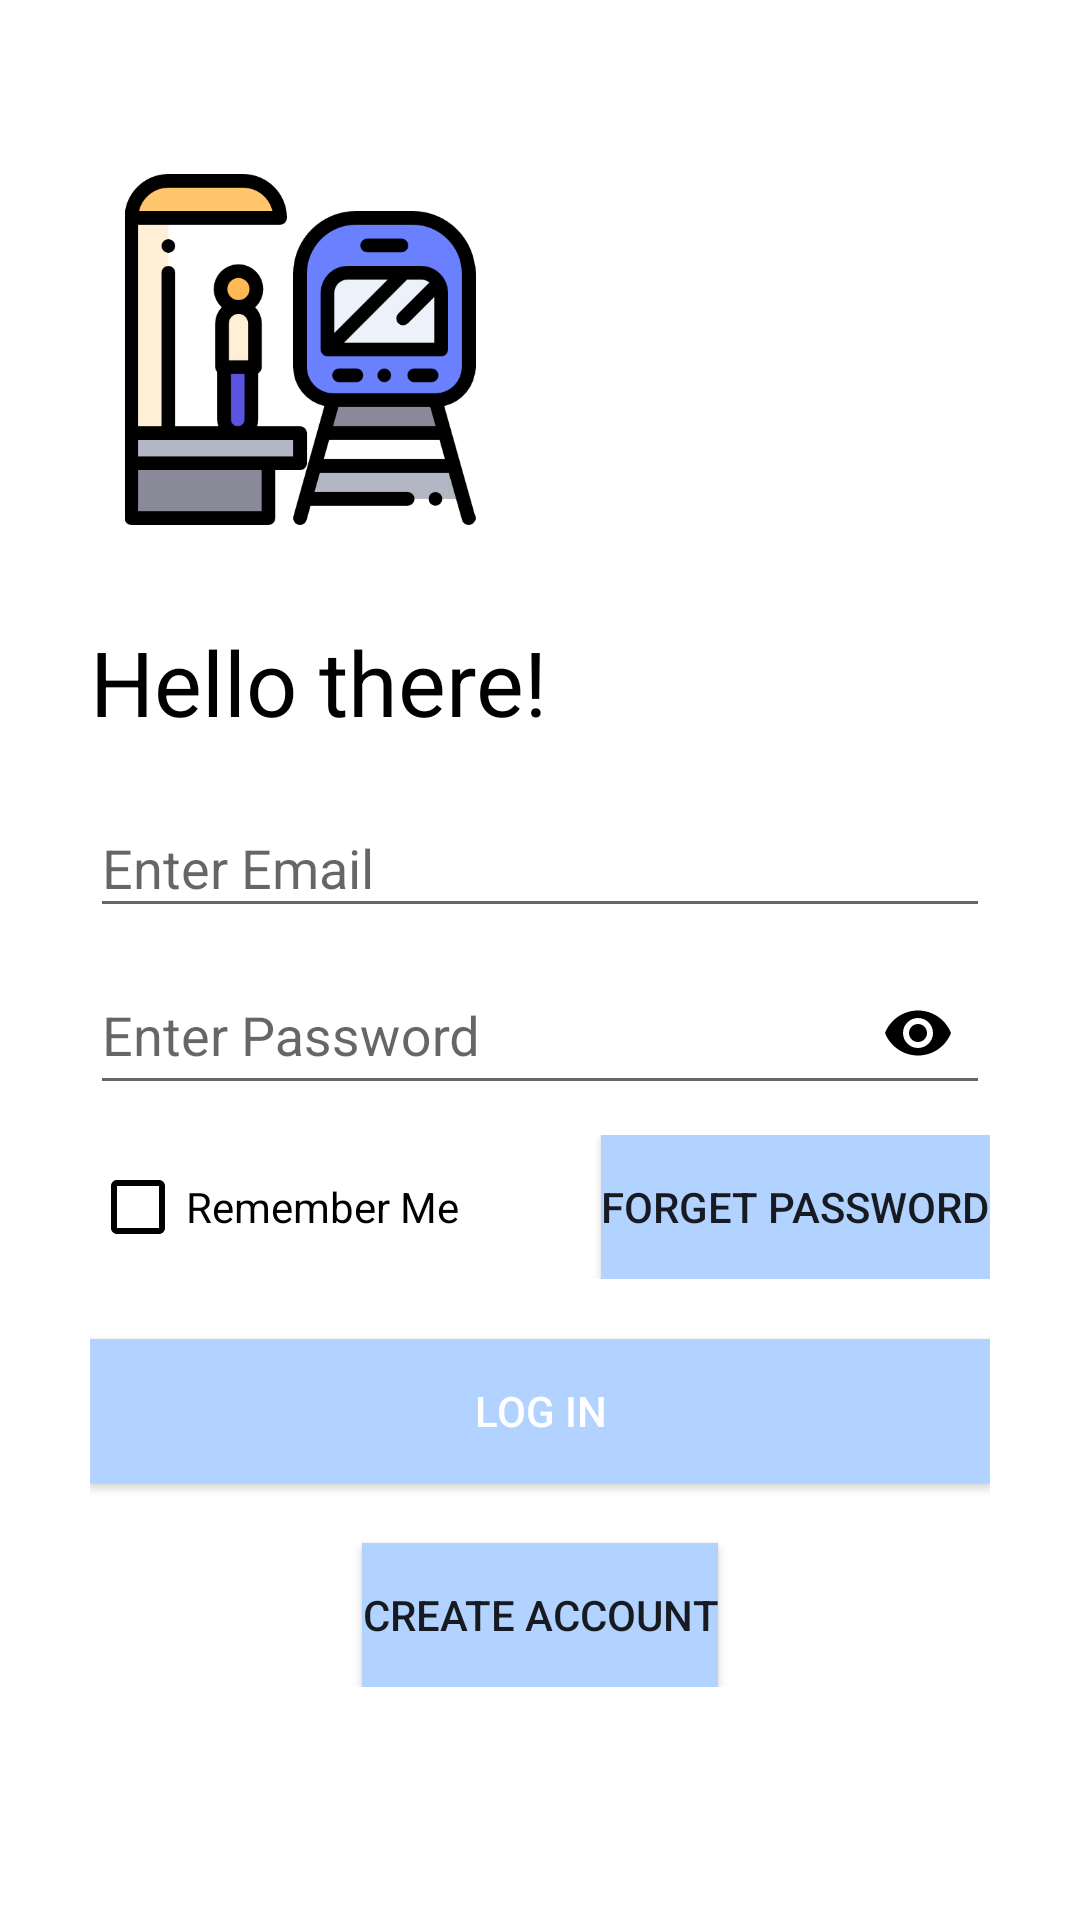

Point at icon controls on the screen. Image size 1080px x 1920px, points as [x,y].
subway: [300,349]
